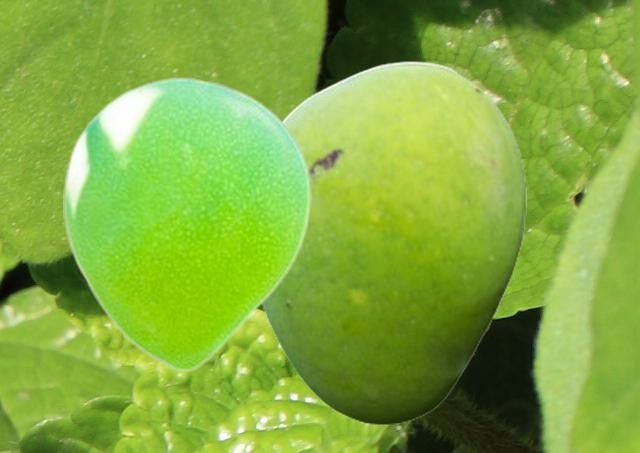green_mango: (260, 60, 525, 424), (63, 76, 310, 372)
